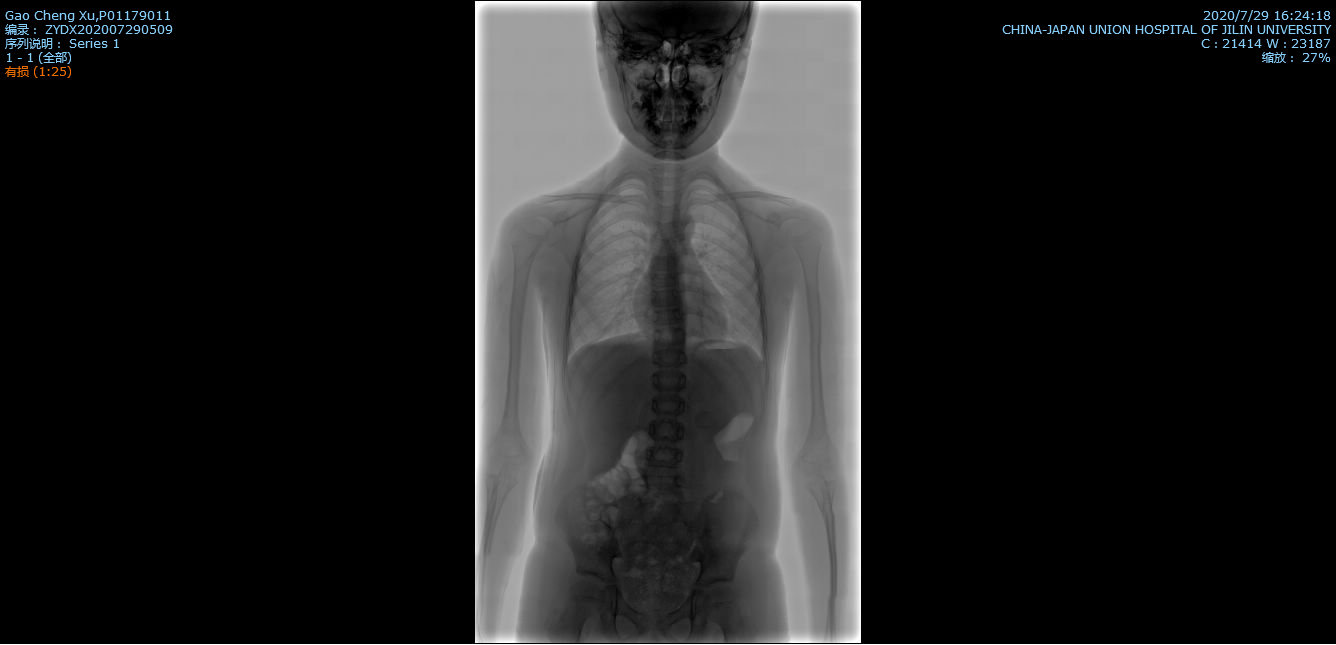胸10椎体: (655, 308, 683, 324)
胸11椎体: (655, 328, 685, 345)
胸12椎体: (654, 350, 686, 365)
胸7椎体: (654, 255, 679, 268)
胸8椎体: (654, 272, 680, 286)
胸9椎体: (654, 291, 682, 304)
腰1椎体: (652, 372, 684, 388)
腰2椎体: (653, 396, 683, 412)
腰3椎体: (651, 422, 682, 438)
腰4椎体: (648, 446, 683, 467)
腰5椎体: (643, 474, 680, 492)
